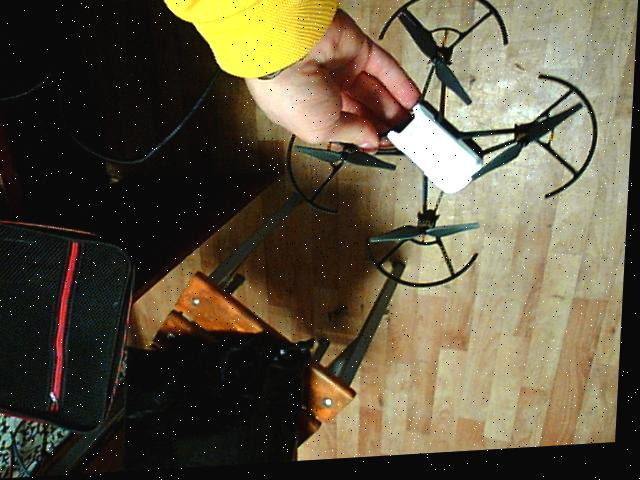drone: (270, 0, 613, 302)
